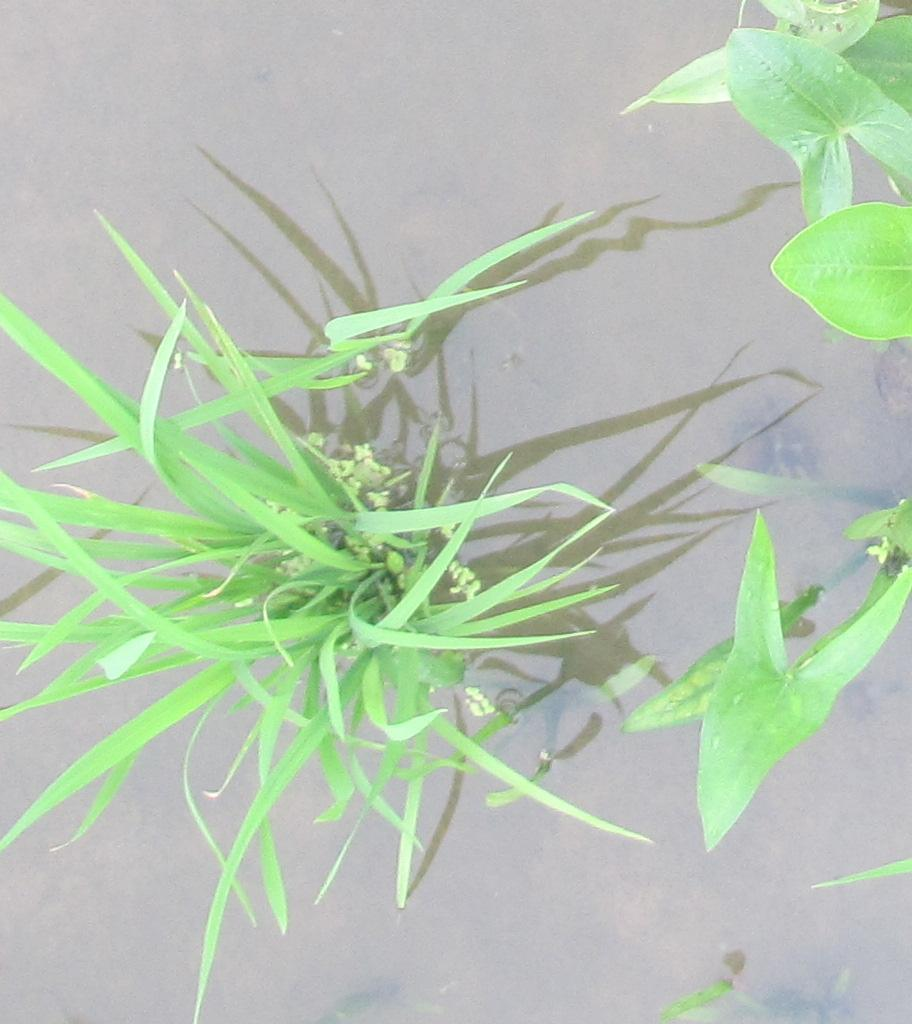Weed: (692, 516, 903, 852), (721, 14, 910, 349)
